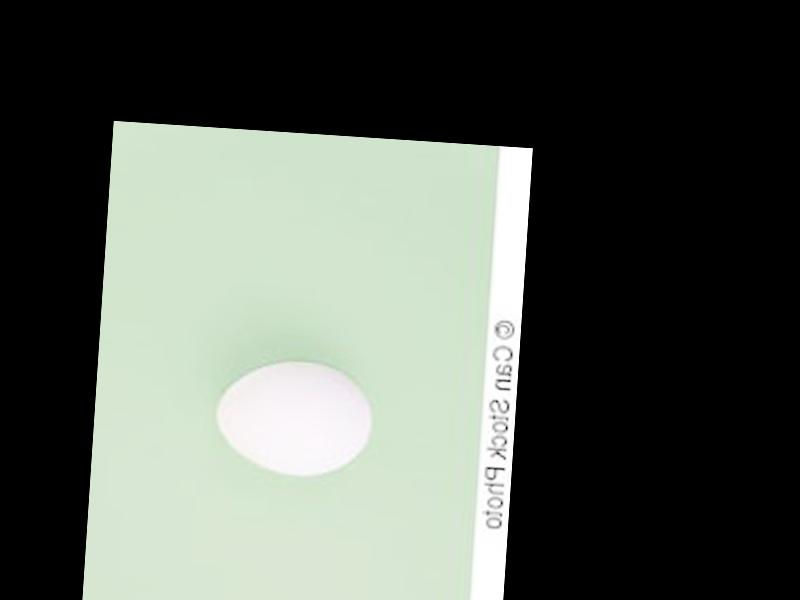Eggs: (213, 357, 374, 478)
